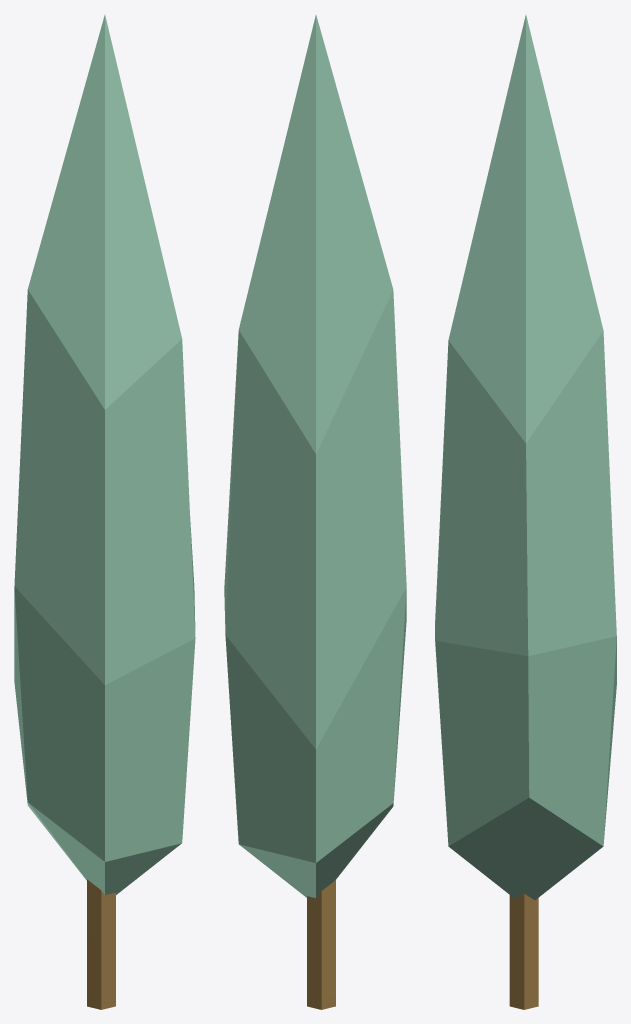
File: Tree_Normal_2.fbx
The picture shows the model from 3 angles, left to right: view 1: azimuth 30°, elevation 25°; view 2: azimuth 150°, elevation 25°; view 3: azimuth 270°, elevation 25°; orthographic projection.
Visible parts, largest first — view 1: Pine_tree; view 2: Pine_tree; view 3: Pine_tree.
Part boxes in pixels (bbox=[...]): Pine_tree: bbox=[14, 15, 195, 1009]; Pine_tree: bbox=[224, 14, 406, 1009]; Pine_tree: bbox=[435, 15, 616, 1009].
Bounding box in the file's own units: 3.54 × 18.45 × 3.07.
